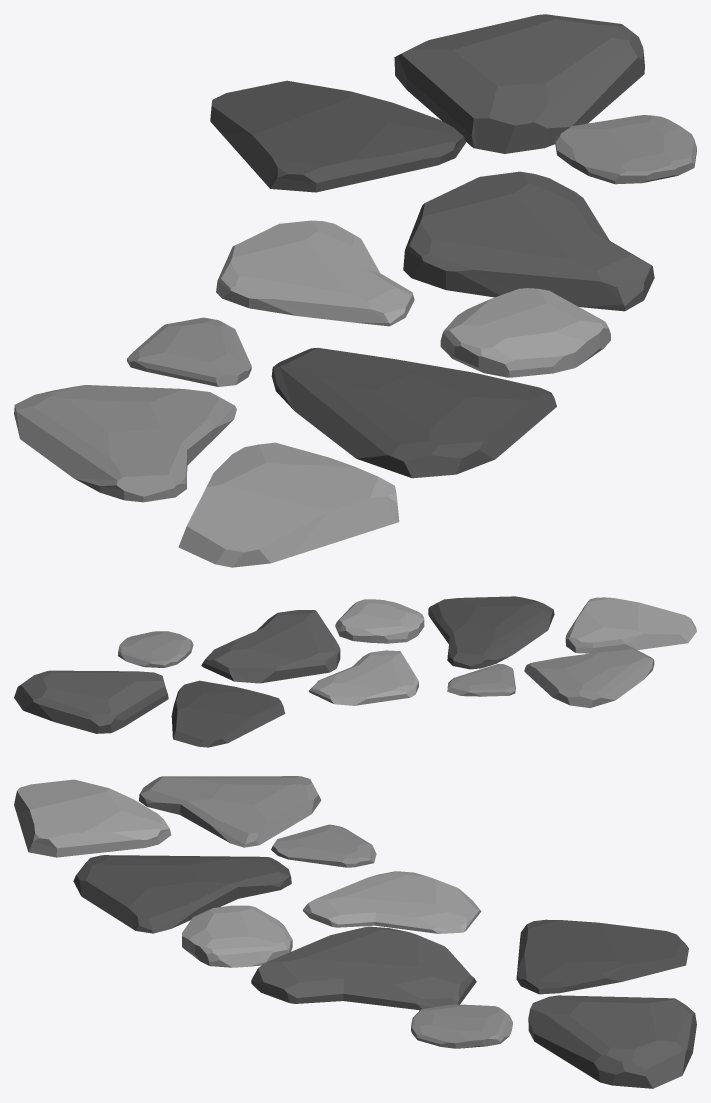
The model's file is CobbleStoneC01.fbx.
3 renders of one model, top to bottom at view 1: azimuth 30°, elevation 25°; view 2: azimuth 150°, elevation 25°; view 3: azimuth 270°, elevation 25°, orthographic. The views are drawn at different scales.
Parts seen in each view (by area): view 1: LOD0; view 2: LOD0; view 3: LOD0.
Boxes of the visible parts, x1=… form: LOD0: x1=14, y1=14, x2=696, y2=567; LOD0: x1=14, y1=596, x2=696, y2=747; LOD0: x1=14, y1=776, x2=696, y2=1088.
Size of what is drawn, in the model's own units: 557 by 537 by 23.45.
